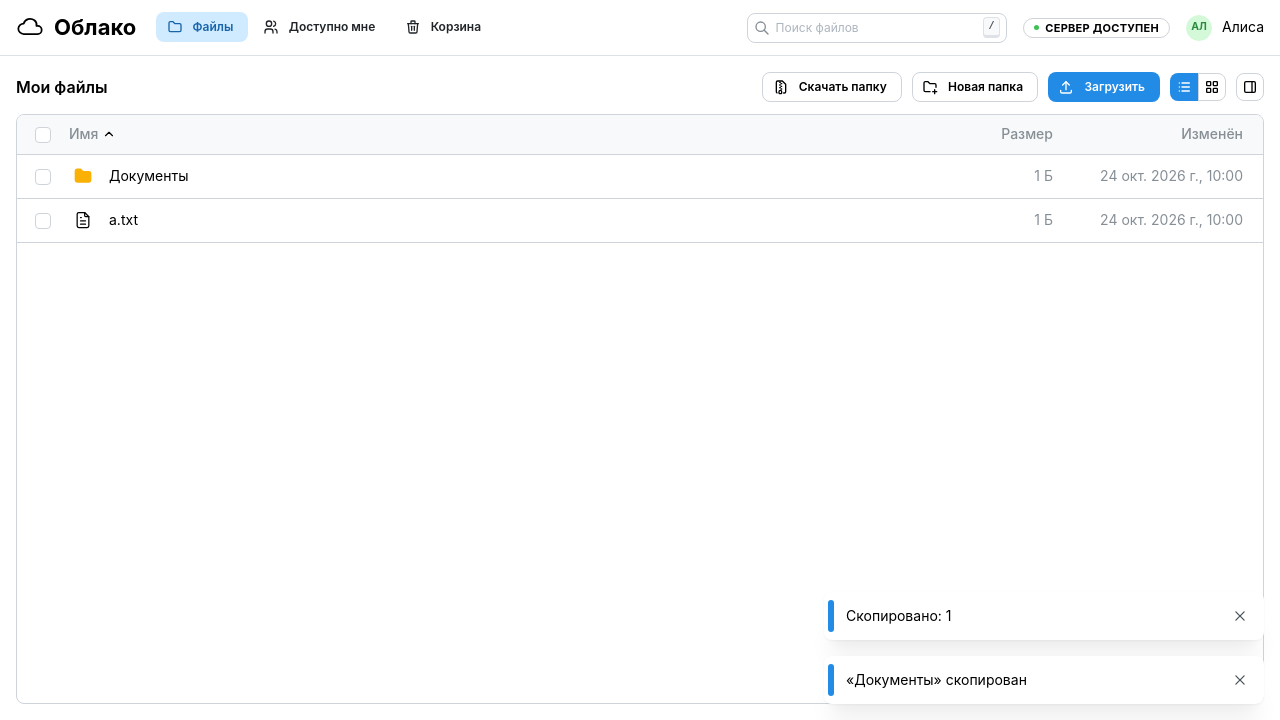
Test: copying › says why a big copy failed
Step 1. Click the option that starts with "Документы" → (149, 176), box x1=17 y1=155 x2=1263 y2=199
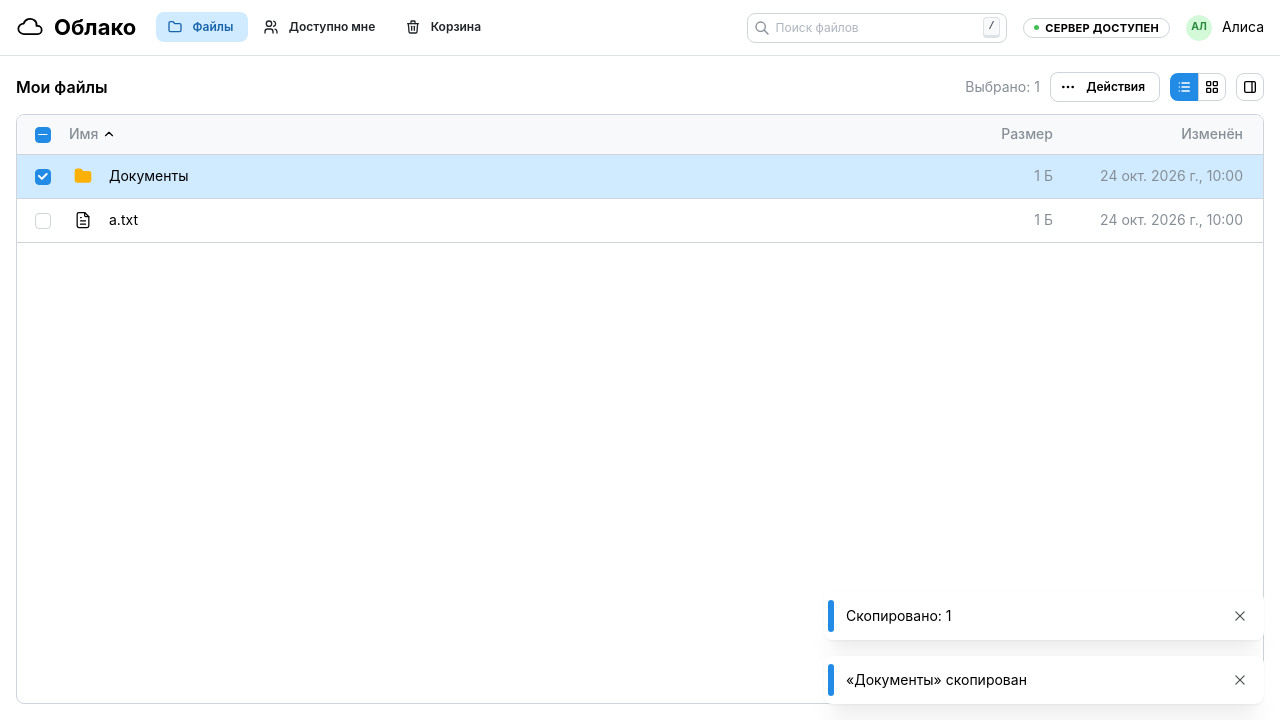
Step 2. Click the button "Действия" → (1105, 87), box x1=1050 y1=72 x2=1160 y2=102
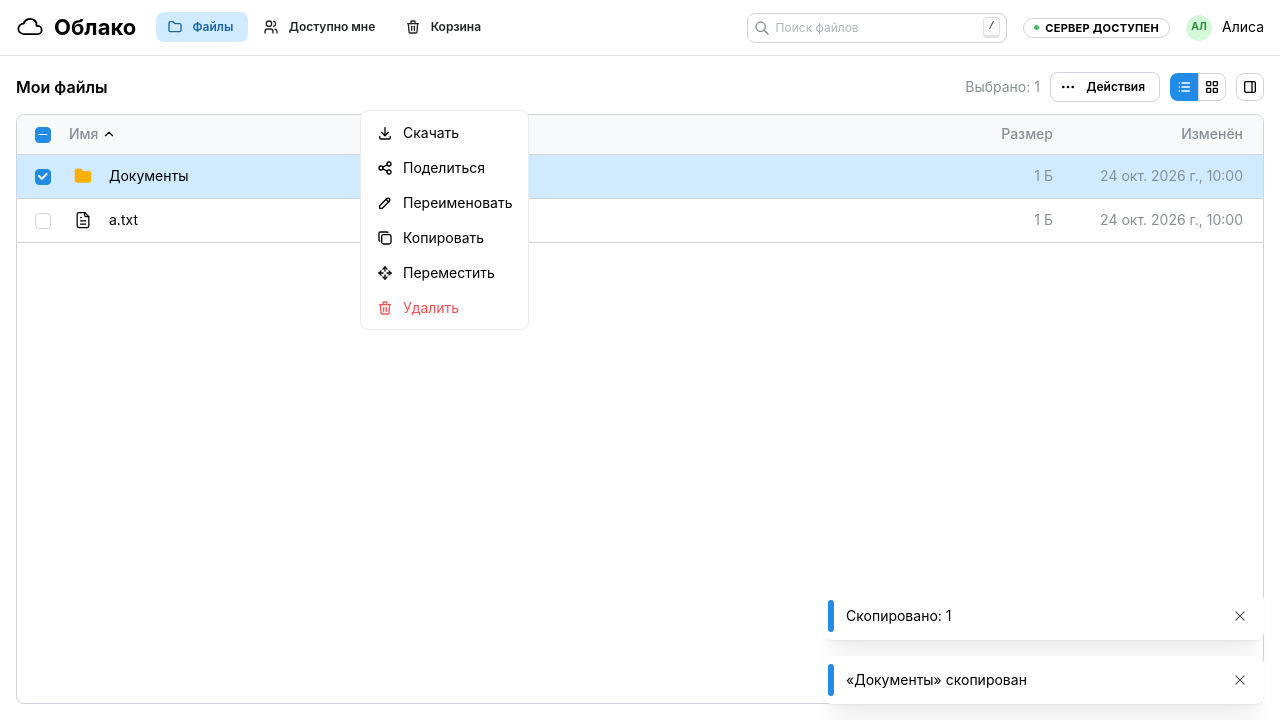
Step 3. Click the menu item "Копировать" → (445, 238), box x1=365 y1=220 x2=524 y2=255
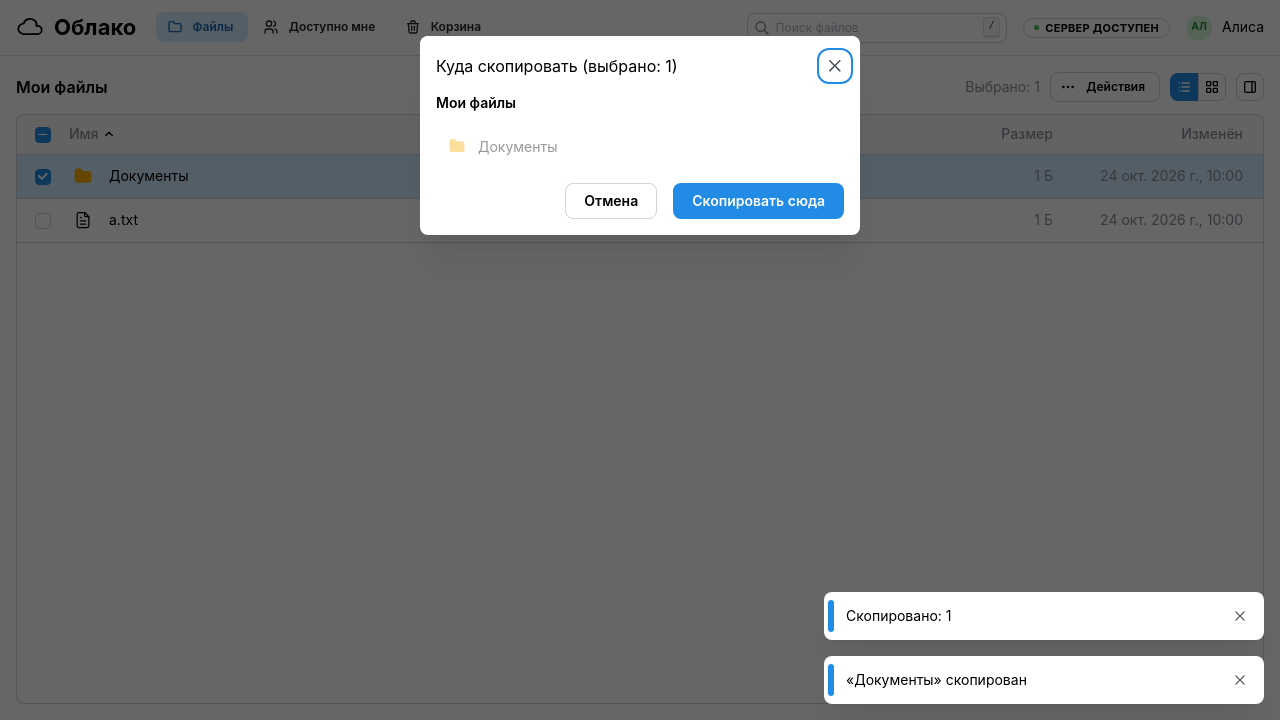
Step 4. Click the button "Скопировать сюда" → (759, 201), box x1=673 y1=183 x2=844 y2=219
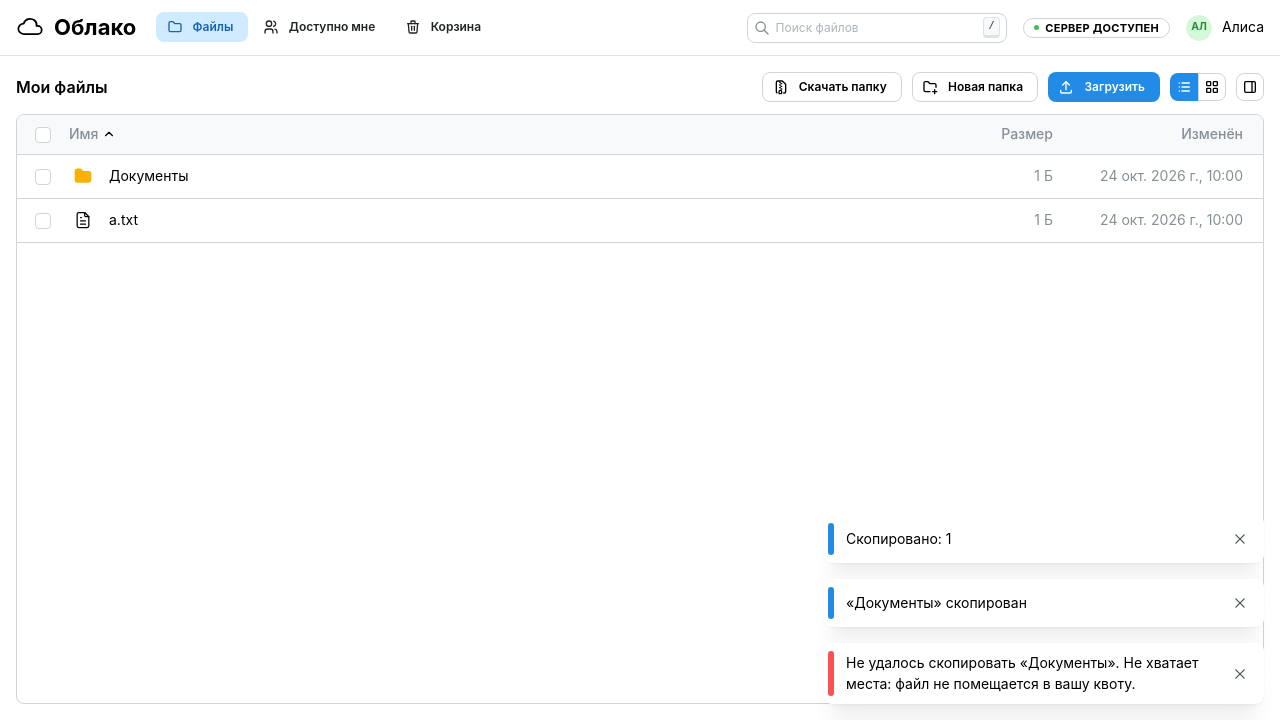
Check: the text "Не удалось скопировать «Документы»" is shown, box x1=846 y1=654 x2=1198 y2=692
